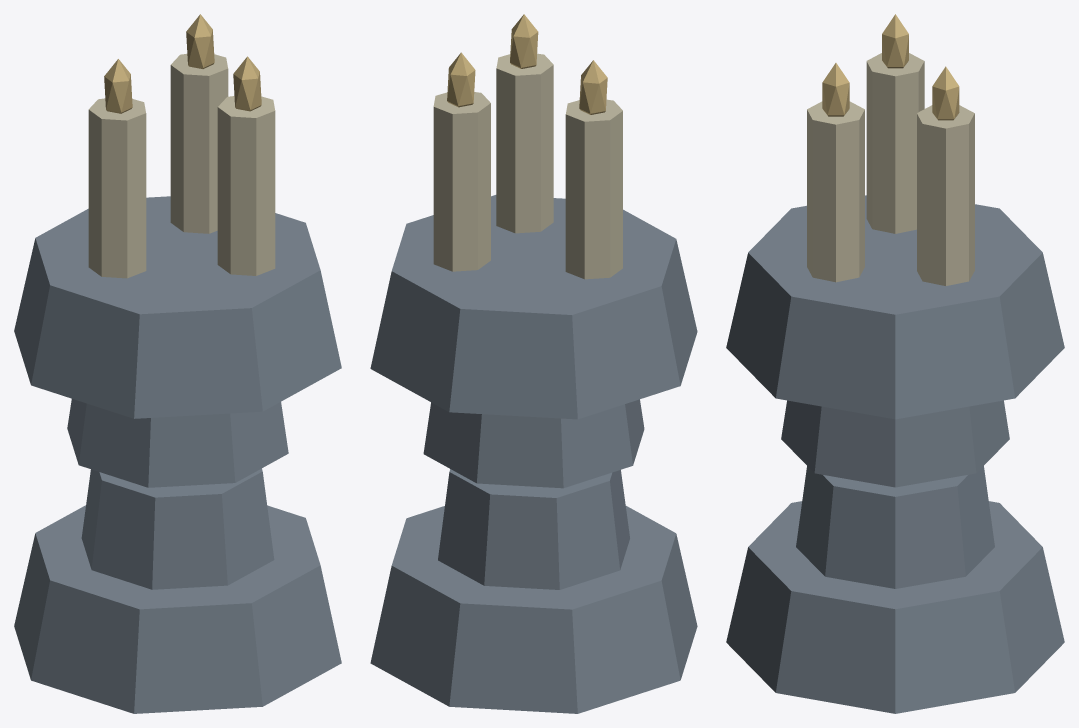
The model's file is map-exclusive-v3__grave_05.glb.
3 renders of one model, left to right at view 1: azimuth 30°, elevation 25°; view 2: azimuth 150°, elevation 25°; view 3: azimuth 270°, elevation 25°, orthographic.
Parts seen in each view (by area): view 1: grave_05; view 2: grave_05; view 3: grave_05.
Part boxes in pixels (bbox=[...]): grave_05: bbox=[14, 14, 341, 713]; grave_05: bbox=[370, 14, 697, 713]; grave_05: bbox=[726, 14, 1064, 713].
Bounding box in the file's own units: 0.74 × 1.45 × 0.74.
